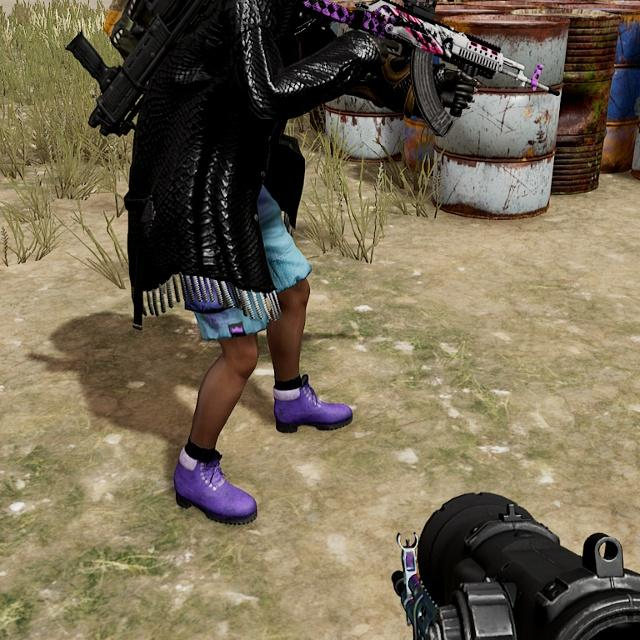people: (84, 1, 386, 528)
